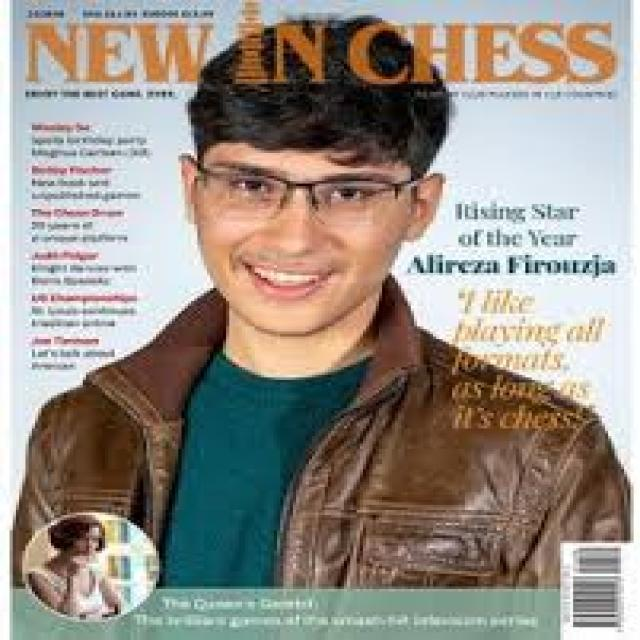paper: (0, 0, 634, 637)
